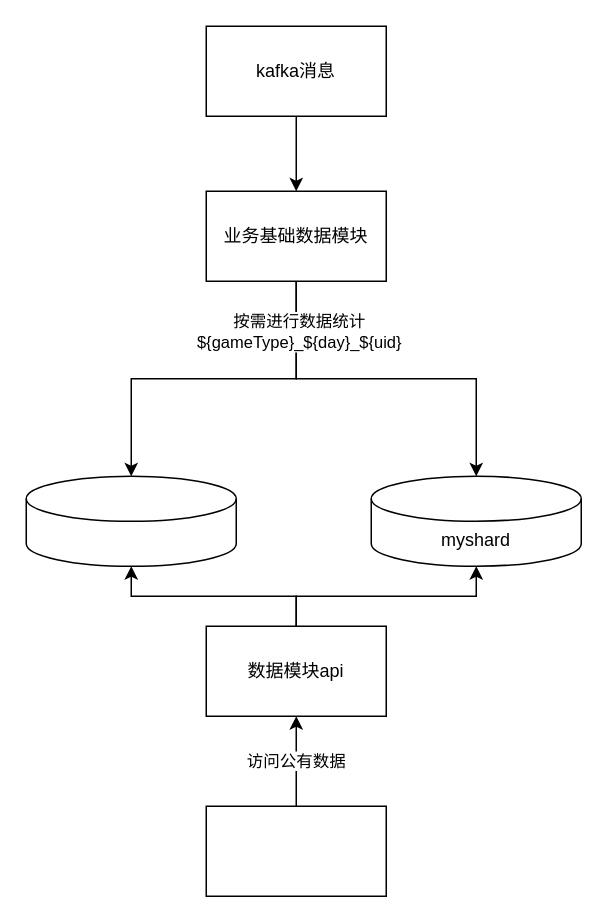
The diagram is 608 pixels wide and 923 high, and some of its shapes have lost their labels. Here are the shapes that lost their labels. From the top down, the centre of each, then its label:
point 130,520: codis
point 295,850: 下游业务
